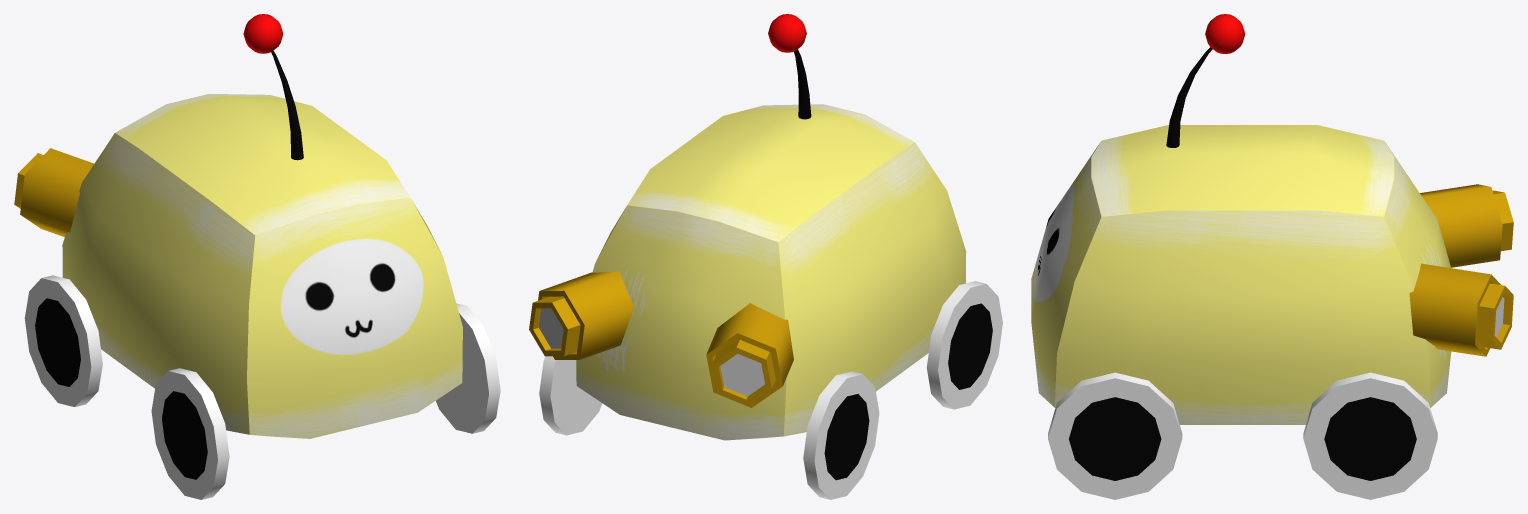
The model's file is makot.fbx.
3 renders of one model, left to right at view 1: azimuth 30°, elevation 25°; view 2: azimuth 150°, elevation 25°; view 3: azimuth 270°, elevation 25°, orthographic. The views are drawn at different scales.
Parts seen in each view (by area): view 1: 몸체, 오른쪽 앞바퀴, 오른쪽 뒤바퀴, 왼쪽 앞바퀴, 오른쪽 부스터, Sphere001, Cone001; view 2: 몸체, 오른쪽 뒤바퀴, 오른쪽 앞바퀴, 왼쪽 부스터, 오른쪽 부스터, 왼쪽 뒤바퀴, Object002, Sphere001, Object001, Cone001; view 3: 몸체, 왼쪽 앞바퀴, 왼쪽 뒤바퀴, 왼쪽 부스터, 오른쪽 부스터, Sphere001, Cone001.
Part boxes in pixels (x1,y1,x2,y2): 몸체: (62,93,462,438); 오른쪽 앞바퀴: (151,368,229,499); 오른쪽 뒤바퀴: (24,275,102,406); 왼쪽 앞바퀴: (436,303,500,433); 오른쪽 부스터: (14,148,93,237); Sphere001: (243,14,283,53); Cone001: (270,50,303,160); 몸체: (576,104,966,440); 오른쪽 뒤바퀴: (803,371,879,499); 오른쪽 앞바퀴: (926,281,1002,409); 왼쪽 부스터: (529,271,634,359); 오른쪽 부스터: (706,303,793,407); 왼쪽 뒤바퀴: (539,356,602,435); Object002: (720,354,764,396); Sphere001: (768,14,806,52); Object001: (538,308,563,348); Cone001: (794,49,811,119); 몸체: (1031,125,1451,424); 왼쪽 앞바퀴: (1048,372,1182,499); 왼쪽 뒤바퀴: (1303,372,1437,499); 왼쪽 부스터: (1409,263,1513,356); 오른쪽 부스터: (1420,184,1513,267); Sphere001: (1205,14,1245,53); Cone001: (1166,47,1212,147).
Size of the model in its own units: 48.94 by 71.83 by 67.45.
6 materials, 1 textured.
